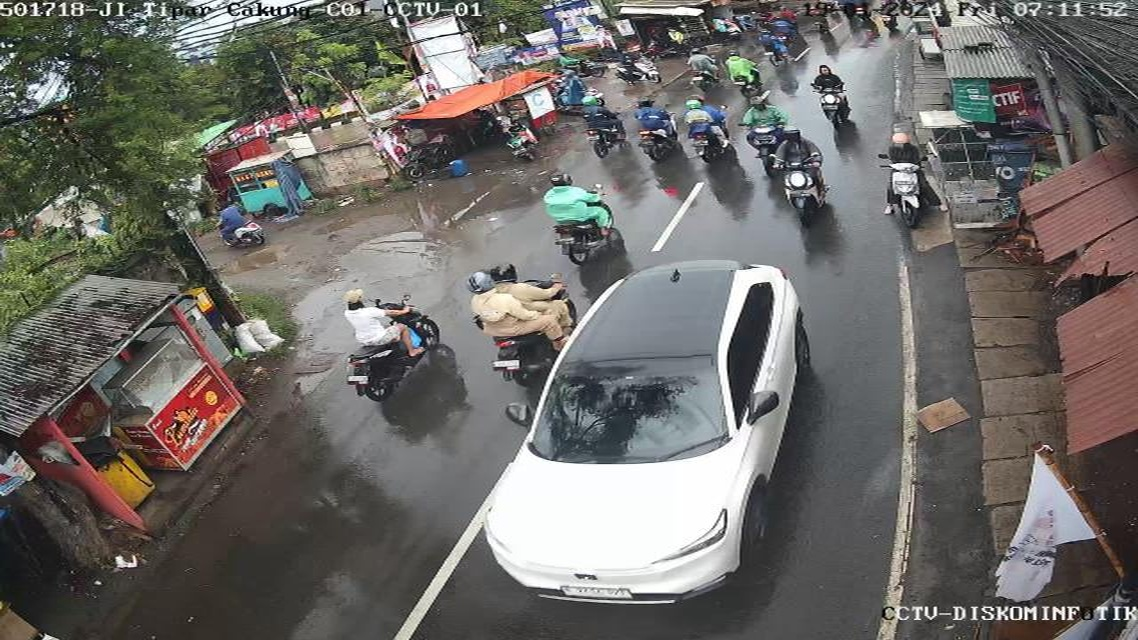Gerobak: (64, 328, 252, 476), (203, 150, 336, 229), (503, 83, 581, 144)
